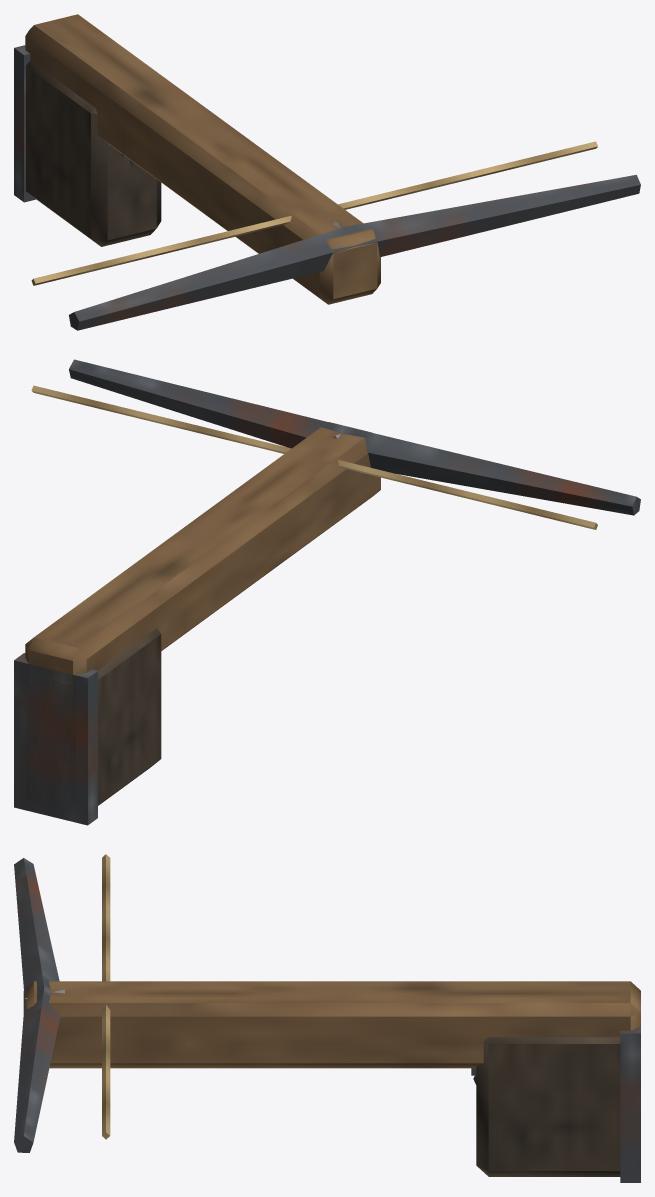
File: SM_Crossbow.fbx
3 views of the same model, one above another, from view 1: azimuth 30°, elevation 25°; view 2: azimuth 150°, elevation 25°; view 3: azimuth 270°, elevation 25° (orthographic).
Parts seen in each view (by area): view 1: SM_Crossbow; view 2: SM_Crossbow; view 3: SM_Crossbow.
Boxes of the visible parts, box(x1,y1,x2,y2) form: SM_Crossbow: box(14, 14, 640, 330); SM_Crossbow: box(14, 359, 640, 825); SM_Crossbow: box(14, 854, 640, 1182).
Size of the model in its own units: 3.21 by 0.95 by 3.05.
1 material, 1 textured.
